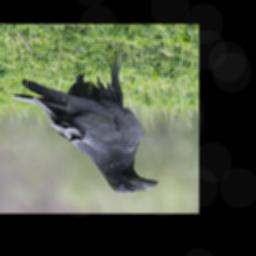Crow: (12, 55, 159, 193)
